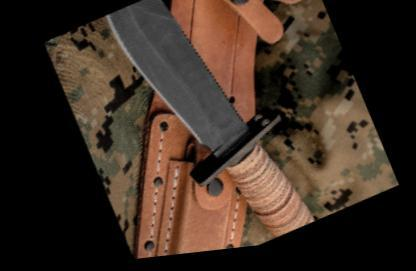knife: (95, 0, 259, 186)
